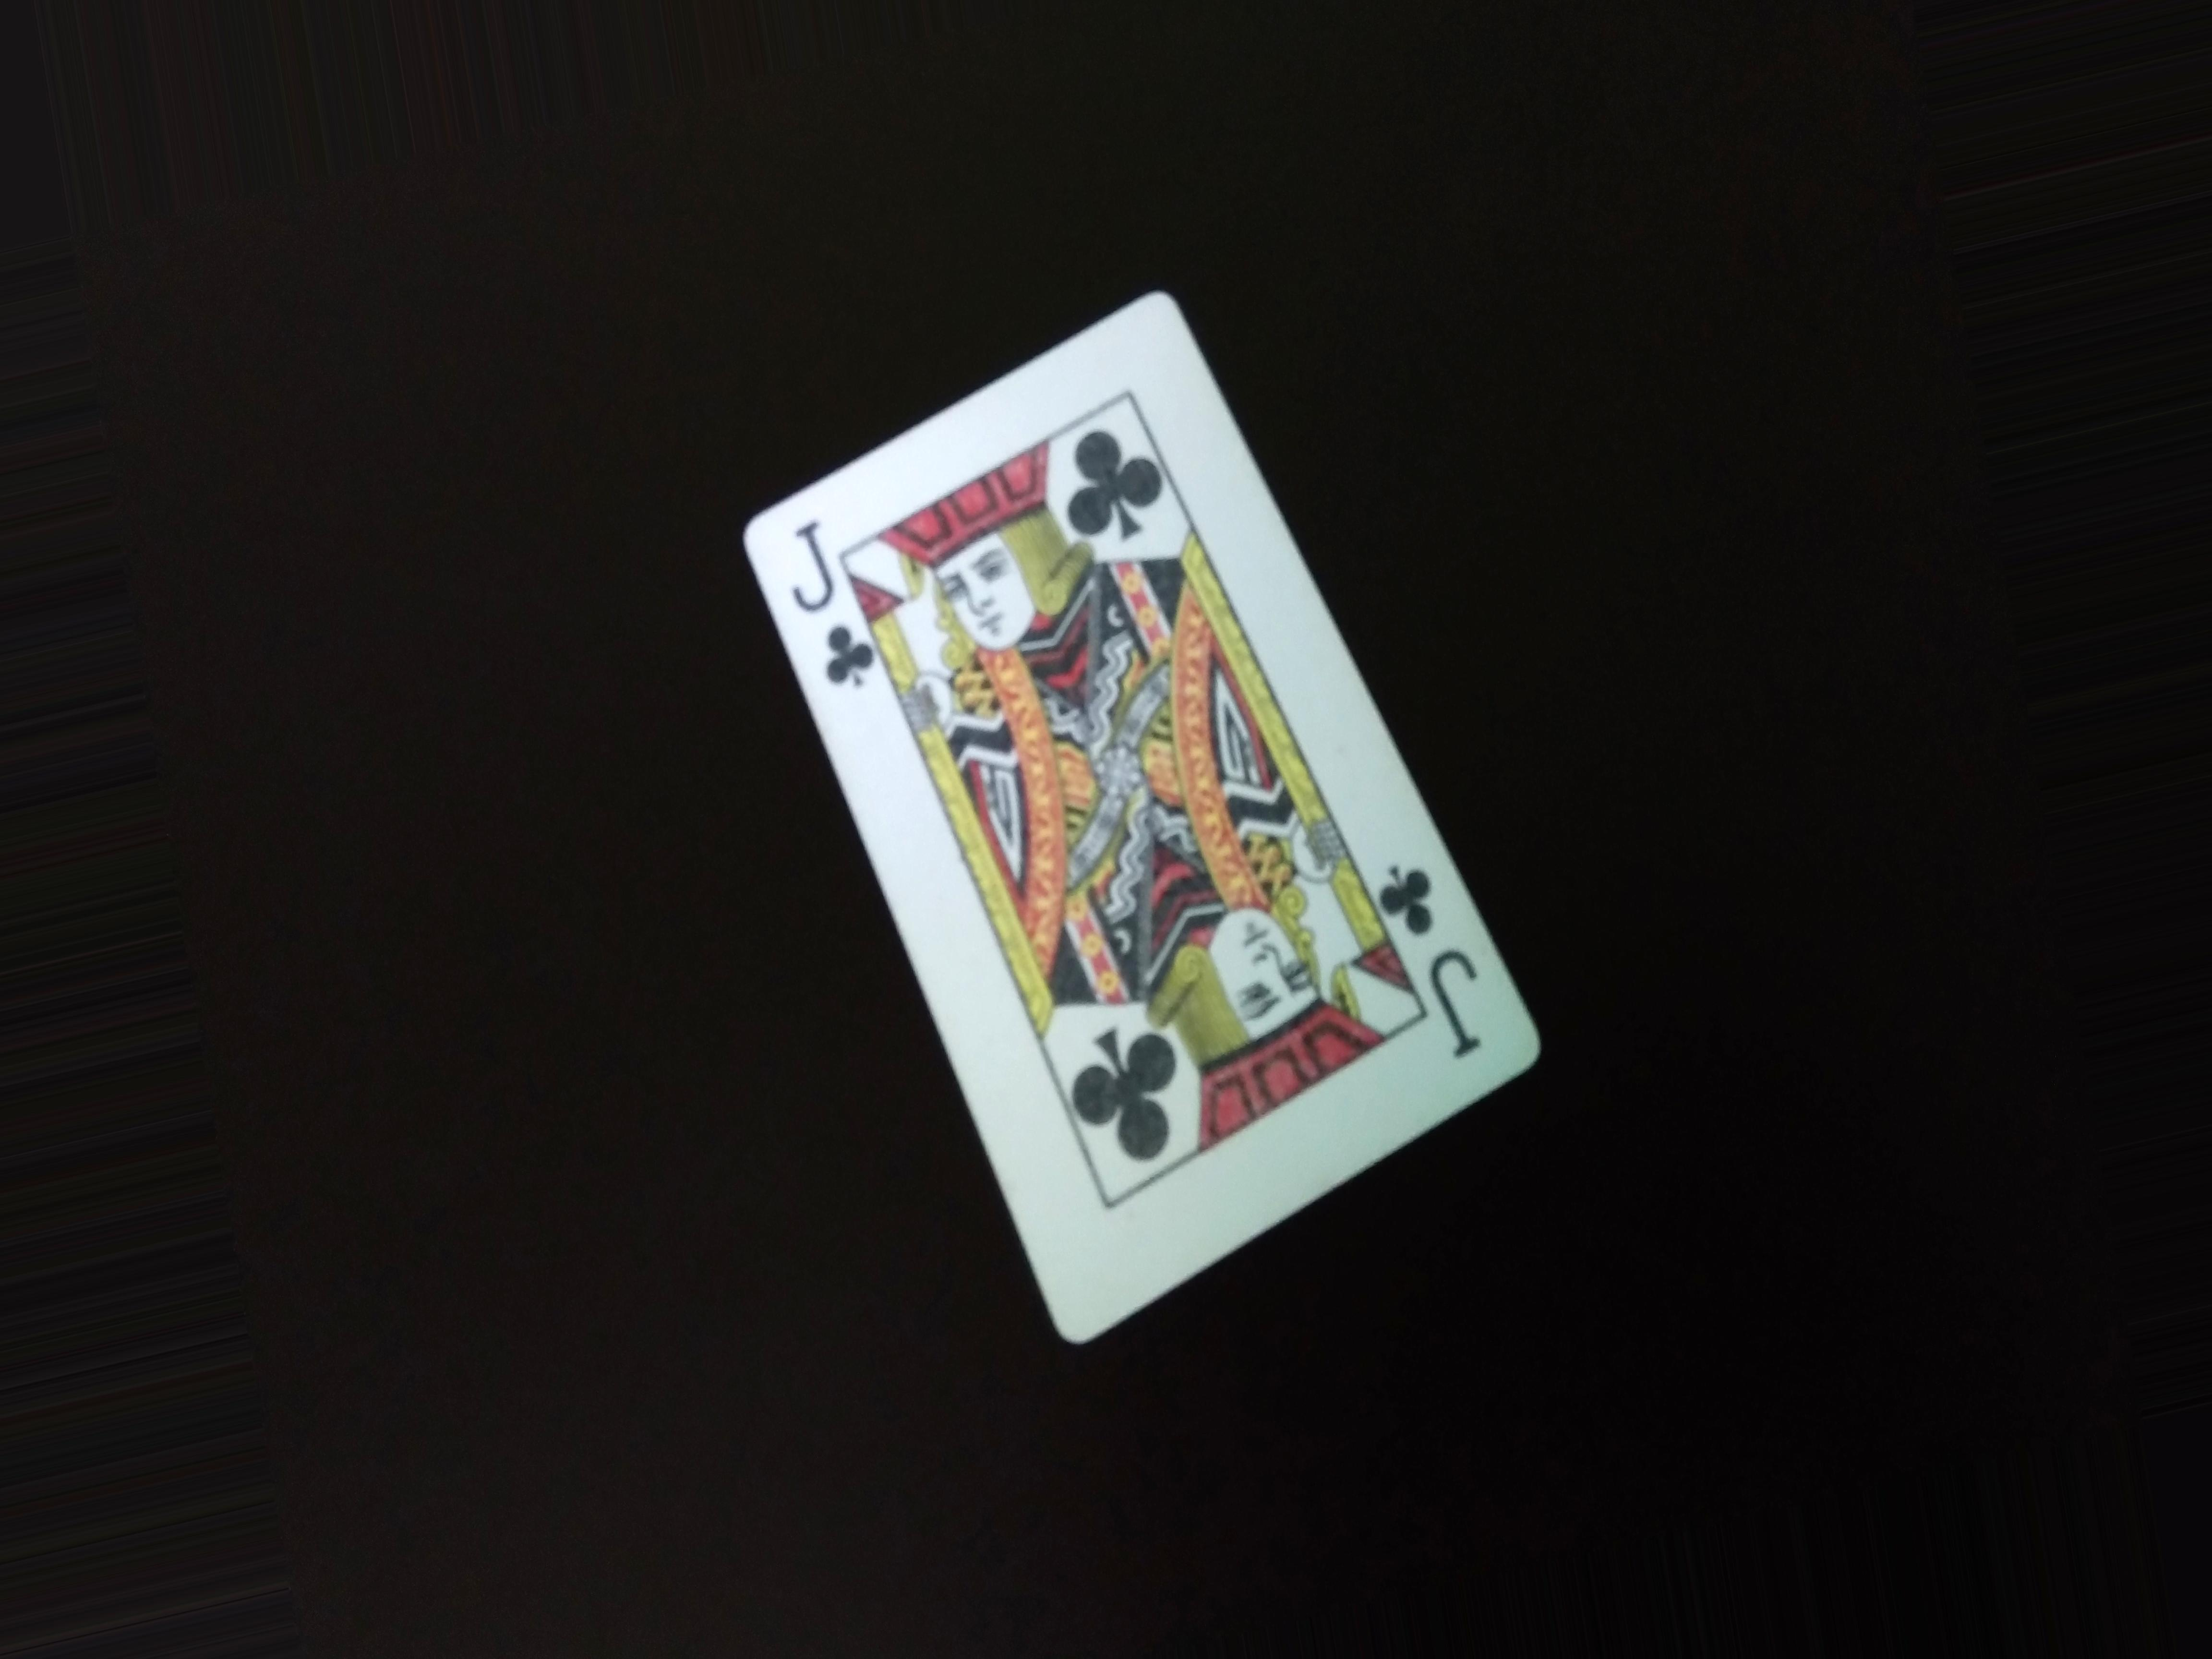JC: (789, 511, 866, 720)
